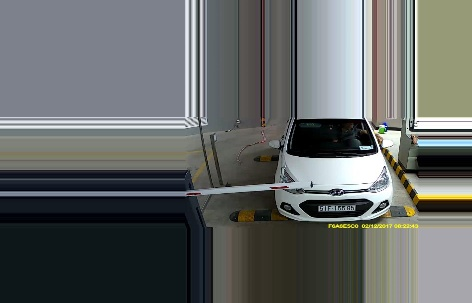plate: (315, 201, 355, 215)
